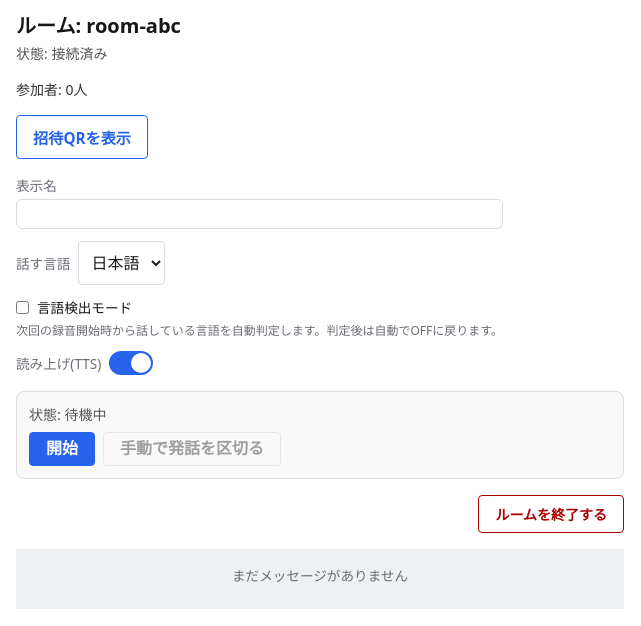
RoomClient › room_ended ハンドリング（two-device-translator-4xi） › 録音中に room_ended を受信すると、forceStop の配線経由で Recorder から stop メッセージが送信される
Click the button "開始" at (62, 449), box [29, 432, 95, 466]
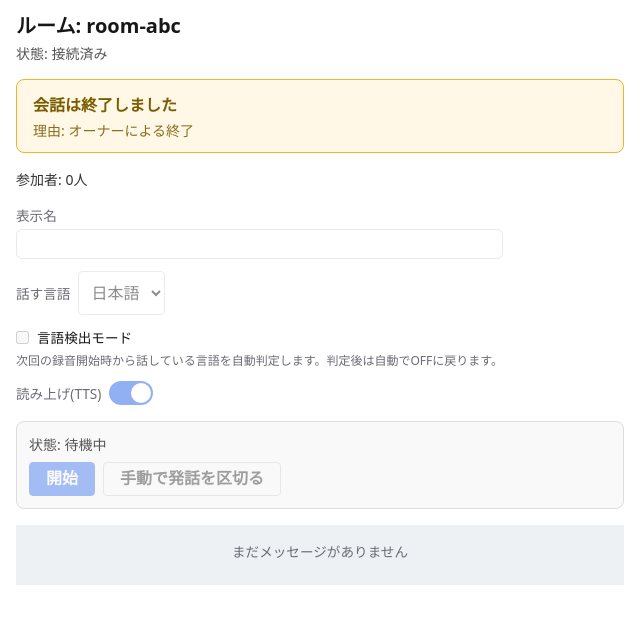
Now the button "開始" is disabled, box [29, 462, 95, 496]
